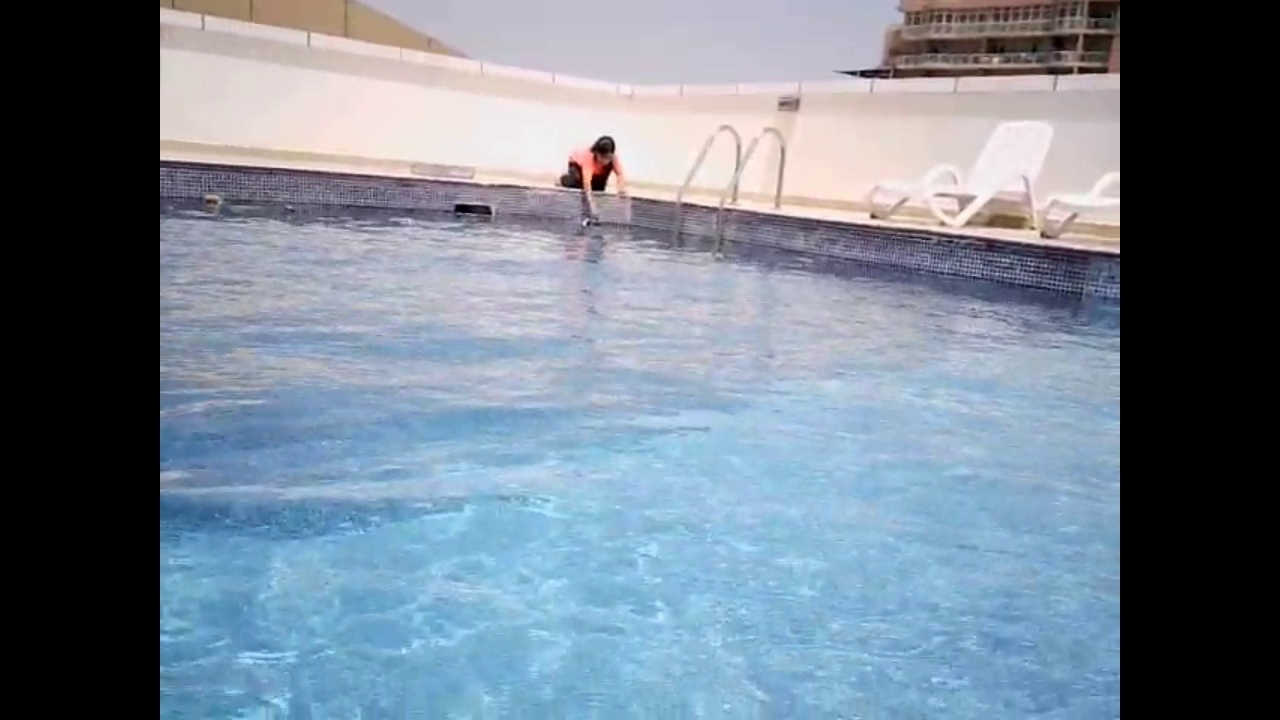debris: (200, 188, 223, 210), (577, 214, 595, 231), (277, 202, 298, 215)
